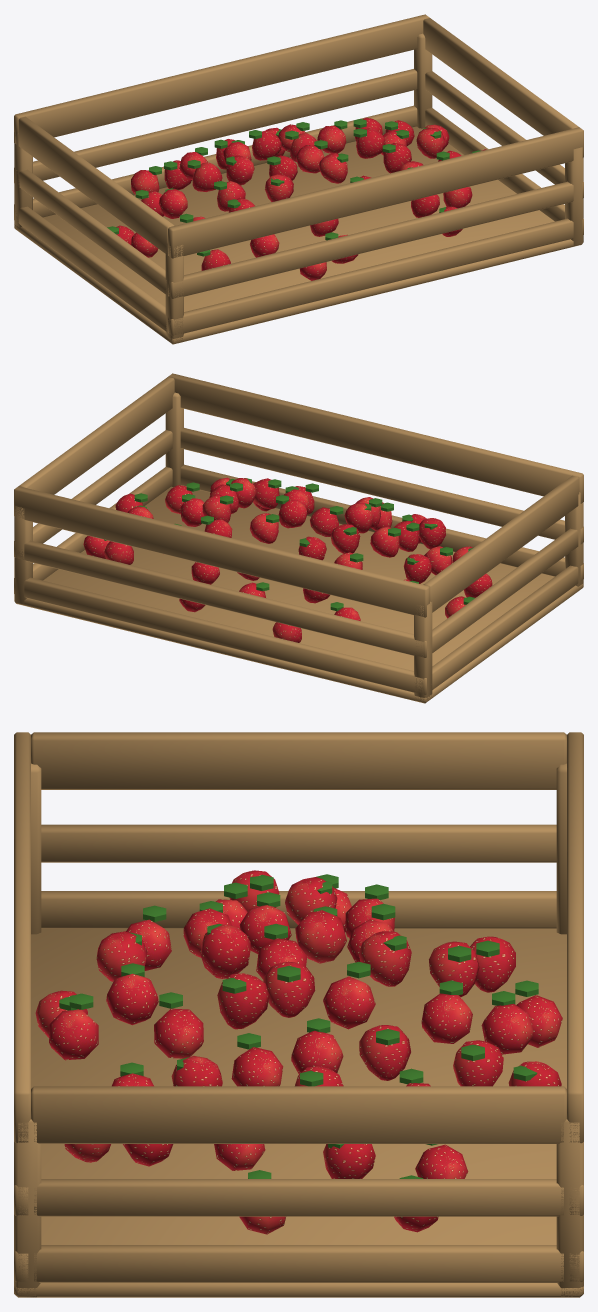
File: harvest_crate_strawberries.glb
The picture shows the model from 3 angles, top to bottom: view 1: azimuth 30°, elevation 25°; view 2: azimuth 150°, elevation 25°; view 3: azimuth 270°, elevation 25°; orthographic projection. The views are drawn at different scales.
Visible parts, largest first — view 1: harvest_crate_strawberries; view 2: harvest_crate_strawberries; view 3: harvest_crate_strawberries.
Boxes of the visible parts, left/top/right/bottom form: harvest_crate_strawberries: left=14, top=14, right=583, bottom=344; harvest_crate_strawberries: left=14, top=373, right=583, bottom=703; harvest_crate_strawberries: left=14, top=732, right=583, bottom=1297.
Size of the model in its own units: 0.6 by 0.1605 by 0.4.
Materials: 3 (1 with a texture image).
